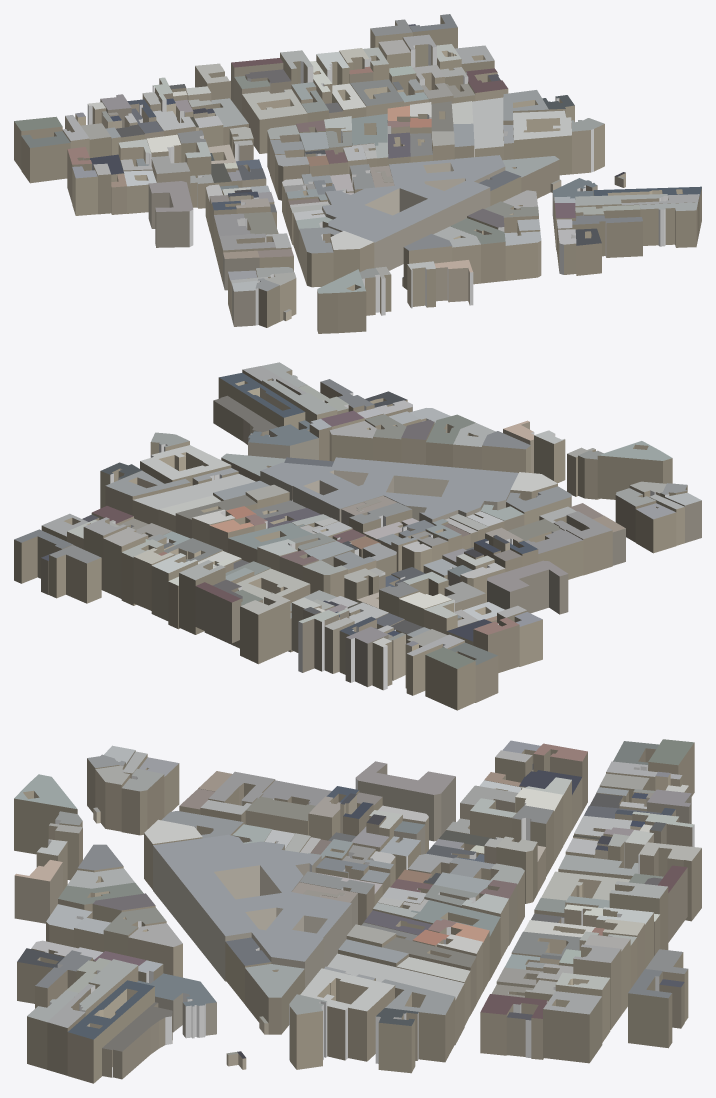
3 views of the same model, one above another, from view 1: azimuth 30°, elevation 25°; view 2: azimuth 150°, elevation 25°; view 3: azimuth 270°, elevation 25° (orthographic). The views are drawn at different scales.
Parts seen in each view (by area): view 1: tuile; view 2: tuile; view 3: tuile.
Part boxes in pixels (left/top/right/bottom): tuile: left=14, top=14, right=701, bottom=333; tuile: left=14, top=362, right=701, bottom=710; tuile: left=14, top=739, right=701, bottom=1083.
Size of the model in its own units: 272 by 32.62 by 267.
